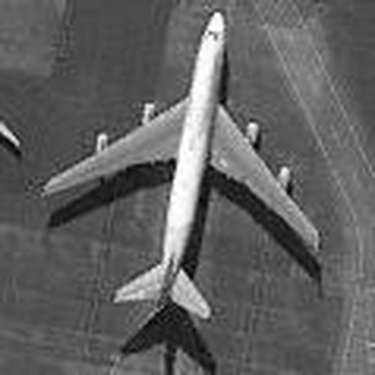airplane: (36, 6, 336, 332), (4, 102, 24, 163)
